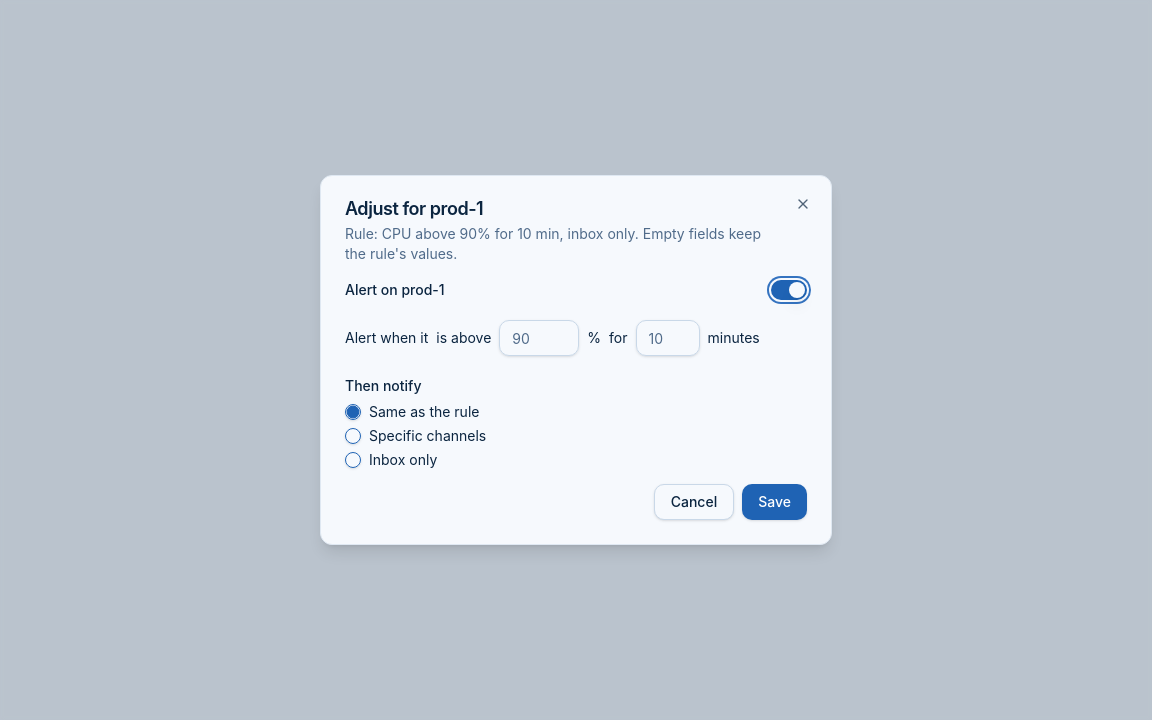
Test case: OverrideDialog › shows its own message for an out-of-range duration instead of the browser's
This screenshot has width=1152, height=720.
Type "90" into the number field named "For (minutes)" at (668, 338), box [636,320,700,356]
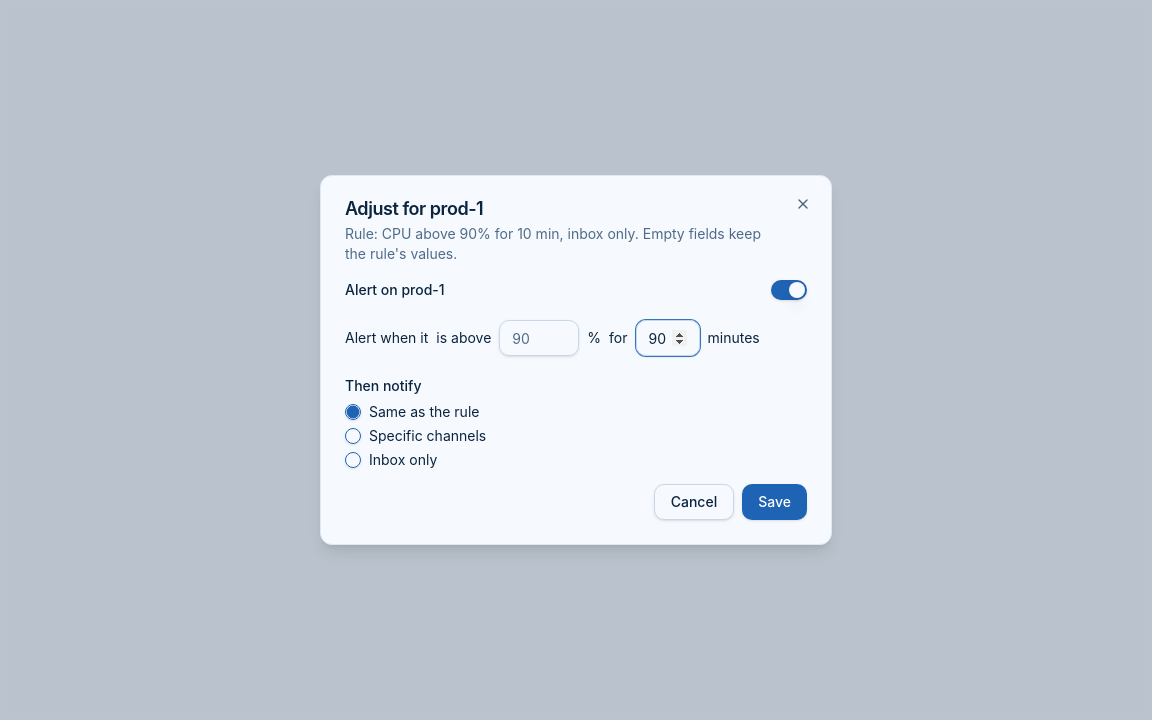
Click the button "Save" at (775, 502), box [742,484,807,520]
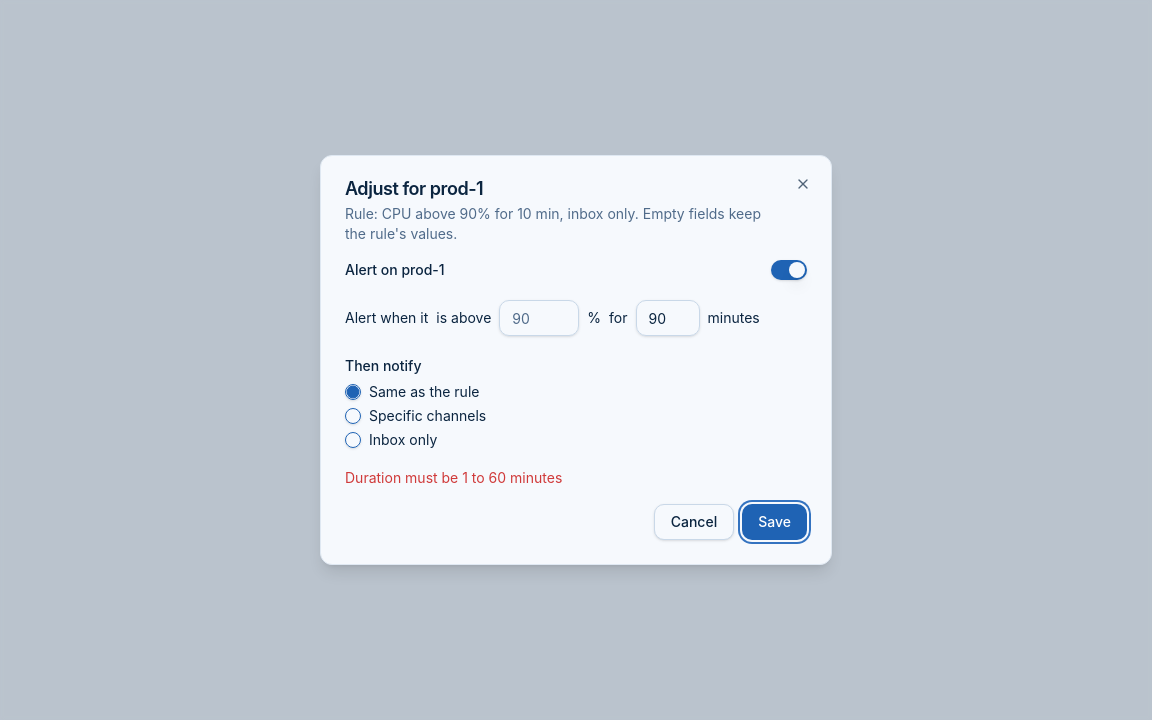
Check: the message shows "1 to 60 minutes", box [345,469,562,486]
